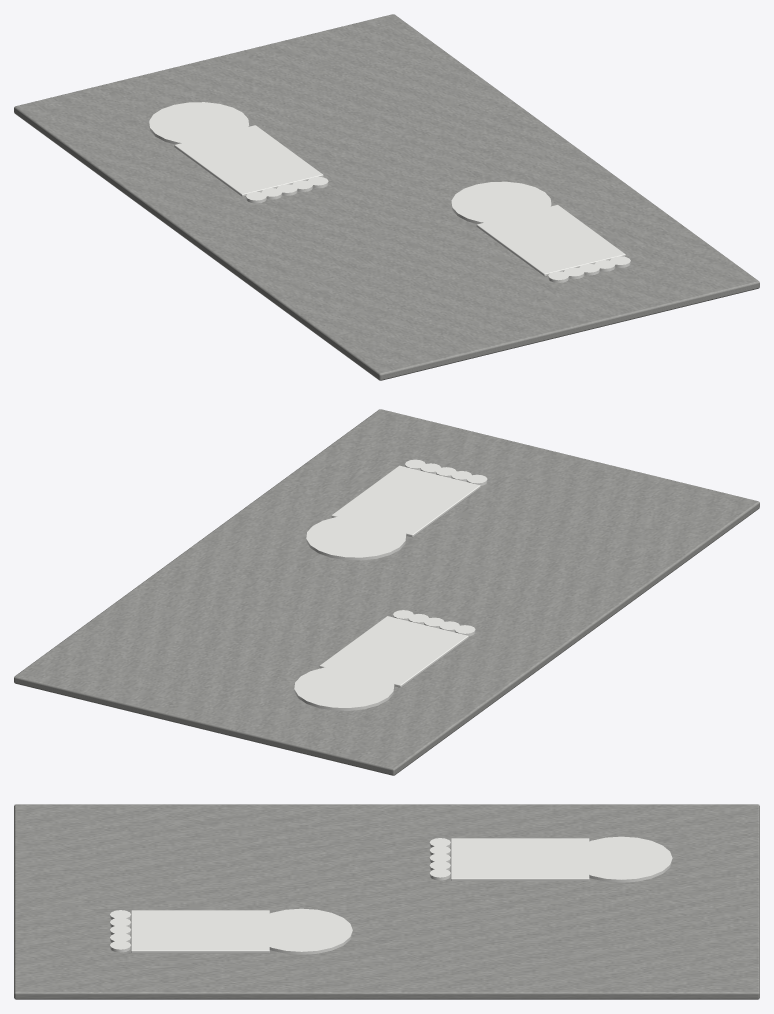
Rendered from paranormal-investigation-house-salt-footprint-tile-3792b4f1__26868.glb.
The picture shows the model from 3 angles, top to bottom: view 1: azimuth 30°, elevation 25°; view 2: azimuth 150°, elevation 25°; view 3: azimuth 270°, elevation 25°; orthographic projection.
Visible parts, largest first — view 1: salt-footprint-tile; view 2: salt-footprint-tile; view 3: salt-footprint-tile.
Boxes of the visible parts, x1=… form: salt-footprint-tile: x1=14, y1=14, x2=759, y2=380; salt-footprint-tile: x1=14, y1=409, x2=759, y2=775; salt-footprint-tile: x1=14, y1=804, x2=759, y2=999.
Size of the model in its own units: 0.42 by 0.012 by 0.7.
2 materials, 1 textured.
